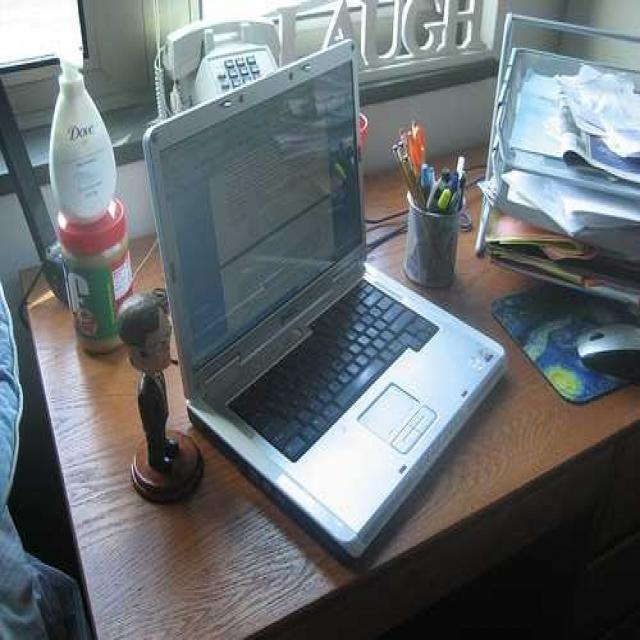laptop: (155, 92, 502, 534)
